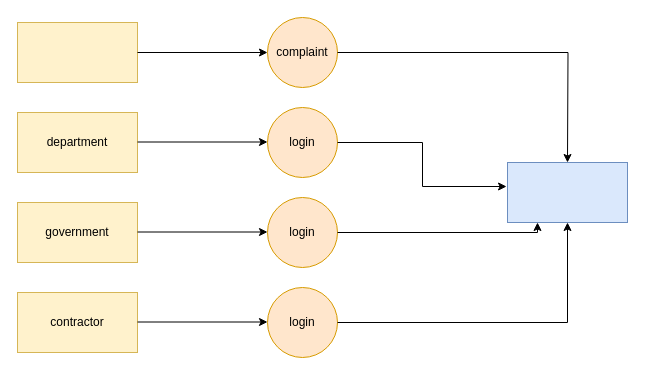
Image size: 645x375. Some labels were removed from this diagram. Here are the shapes that lost their labels. From the top down, the centre of each, then its label:
the point at 77,52: public
the point at 567,192: Database
